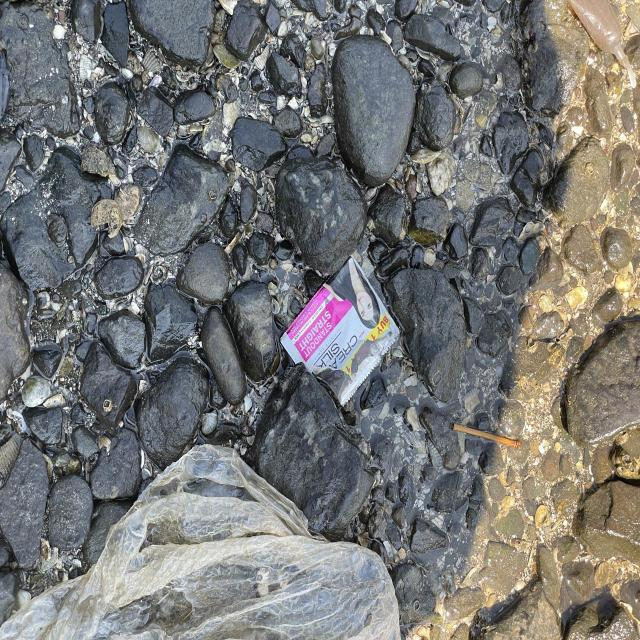plastic_waste: (281, 255, 403, 409)
